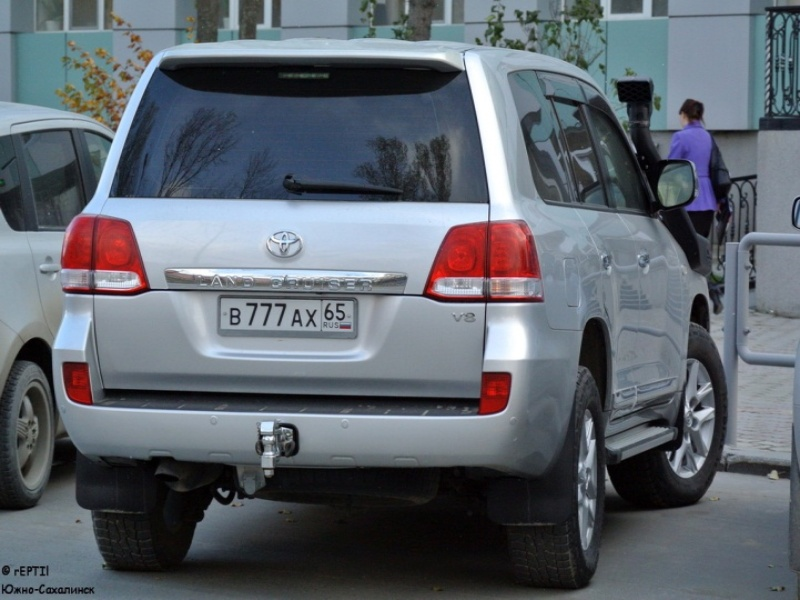car: (52, 38, 735, 584), (1, 100, 114, 504)
person: (669, 99, 716, 242)
plate: (221, 297, 354, 332)
